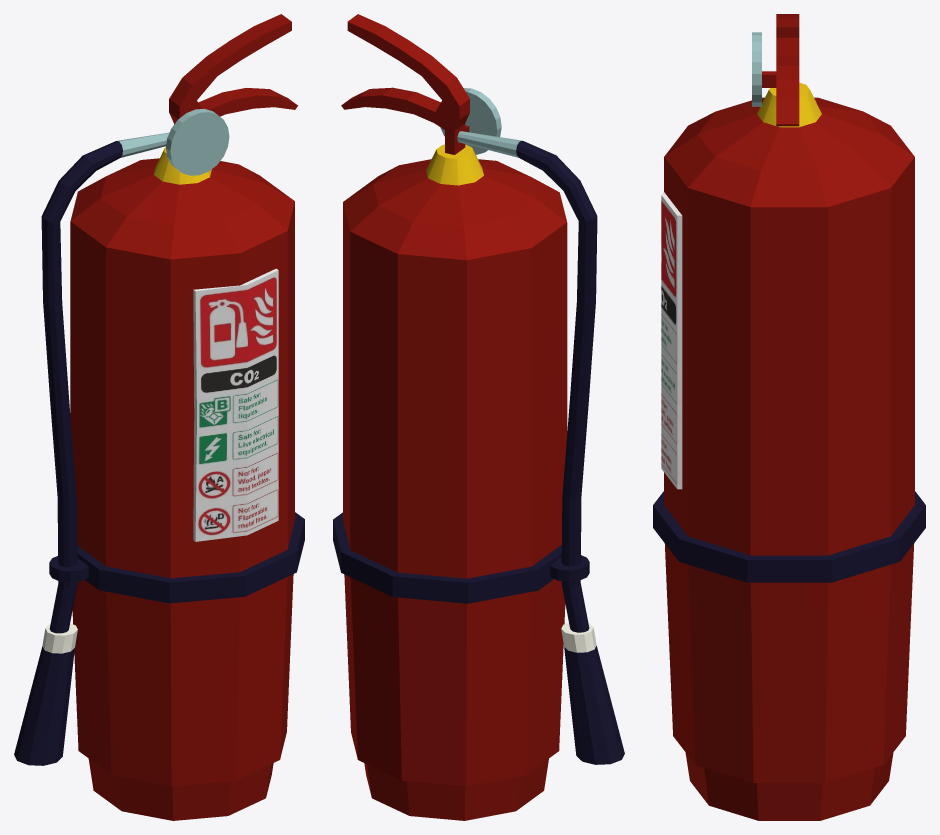
File: Prop_FireExtinguisher_BC.fbx
3 renders of one model, left to right at view 1: azimuth 30°, elevation 25°; view 2: azimuth 150°, elevation 25°; view 3: azimuth 270°, elevation 25°, orthographic. The views are drawn at different scales.
Parts seen in each view (by area): view 1: Prop_FireExtinguisher_BC; view 2: Prop_FireExtinguisher_BC; view 3: Prop_FireExtinguisher_BC.
Part boxes in pixels (x1=…): Prop_FireExtinguisher_BC: x1=14, y1=14, x2=304, y2=820; Prop_FireExtinguisher_BC: x1=333, y1=14, x2=624, y2=820; Prop_FireExtinguisher_BC: x1=653, y1=14, x2=925, y2=820.
Bounding box in the file's own units: 24.85 × 31.67 × 81.21.
